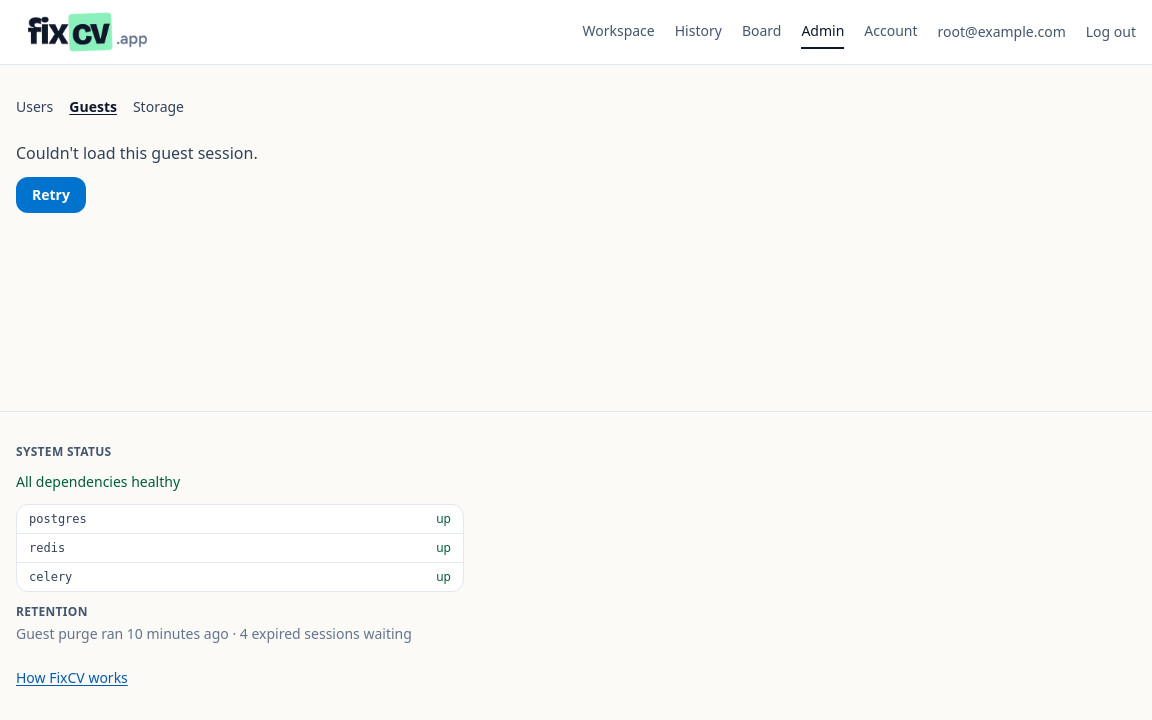
Test: the guest session page — AC-33 › a 503 is an alert with Retry, distinct from loading; Retry shows the session
Check: the text "Couldn't load this guest session." is shown, box [16, 142, 258, 164]
Click the button "Retry" at (51, 195), box [16, 177, 86, 213]
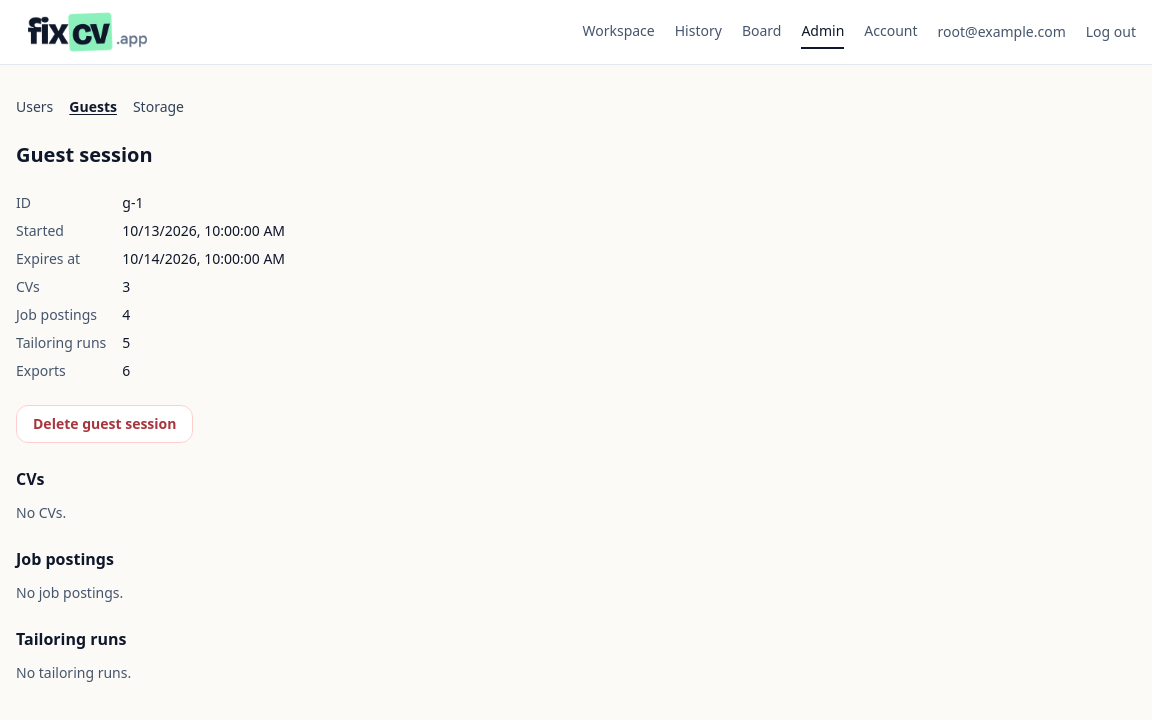
Check: the heading "Guest session" is shown, box [16, 141, 152, 168]
